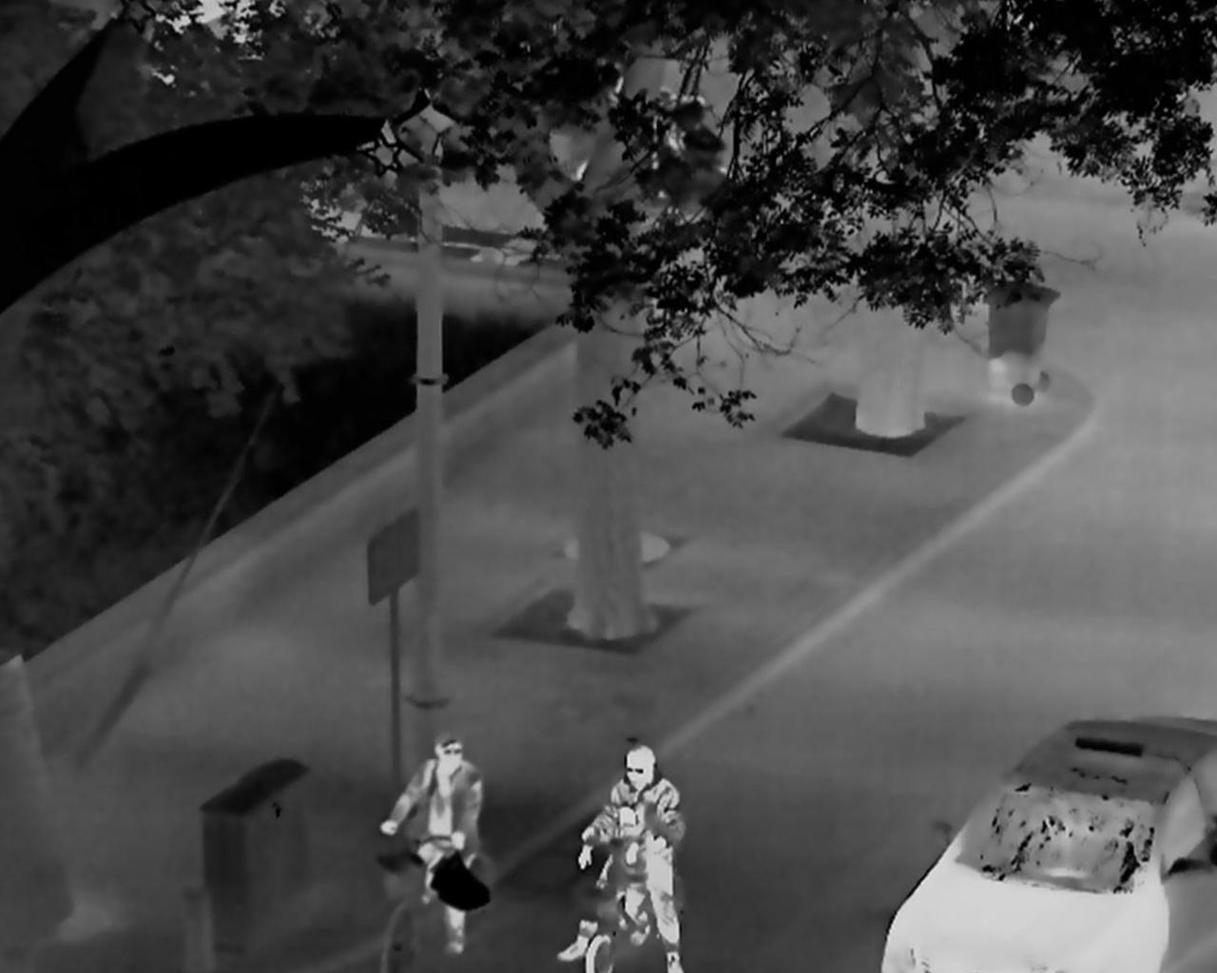person: (555, 739, 692, 973), (378, 730, 484, 955), (577, 798, 652, 945)
